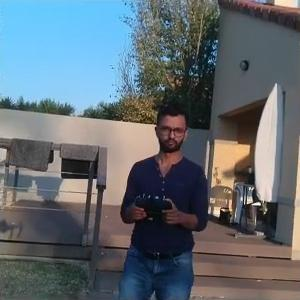follow: (108, 97, 205, 298)
